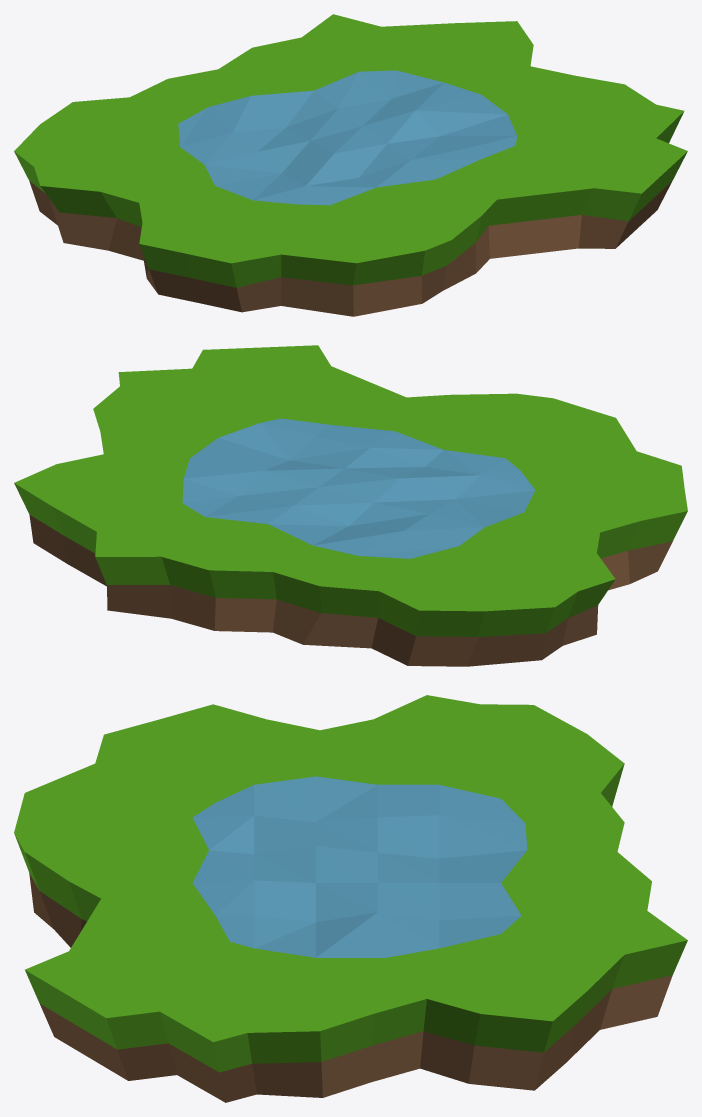
Rendered from Isl_15_Base_1.fbx.
3 renders of one model, top to bottom at view 1: azimuth 30°, elevation 25°; view 2: azimuth 150°, elevation 25°; view 3: azimuth 270°, elevation 25°, orthographic. The views are drawn at different scales.
Visible parts, largest first — view 1: Isl_15_Base_1; view 2: Isl_15_Base_1; view 3: Isl_15_Base_1.
Part boxes in pixels (x1,y1,x2,y2): Isl_15_Base_1: (14,14,687,316); Isl_15_Base_1: (14,345,687,666); Isl_15_Base_1: (14,695,687,1102).
Size of the model in its own units: 4566 by 3746 by 495.
1 material, 1 textured.
